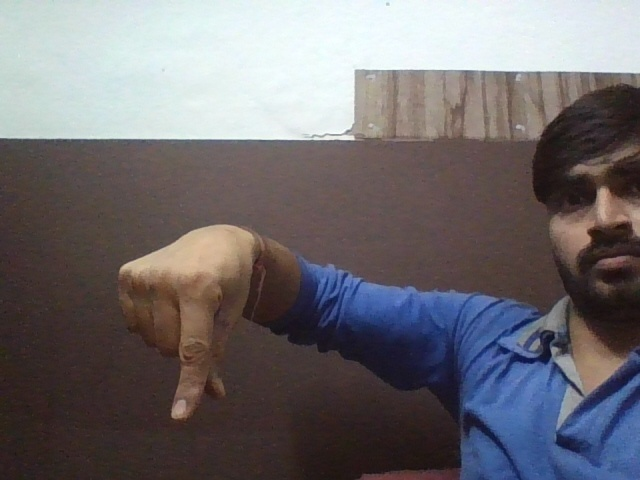Q: (104, 222, 282, 434)
